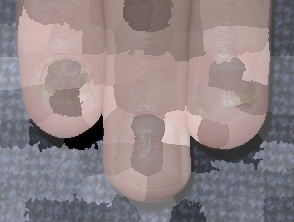Nail_psoriasis: (99, 94, 200, 202), (187, 31, 278, 141), (24, 39, 111, 130)
